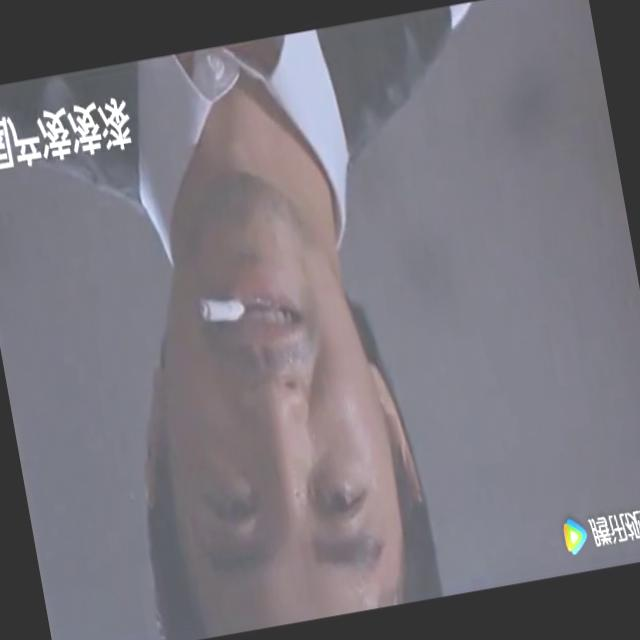cigarette: (196, 289, 243, 330)
